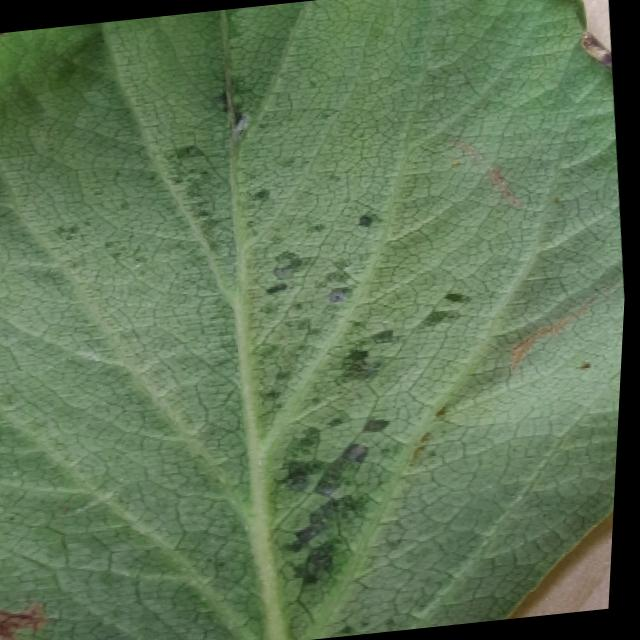Angular Leafspot: (31, 69, 494, 640)
